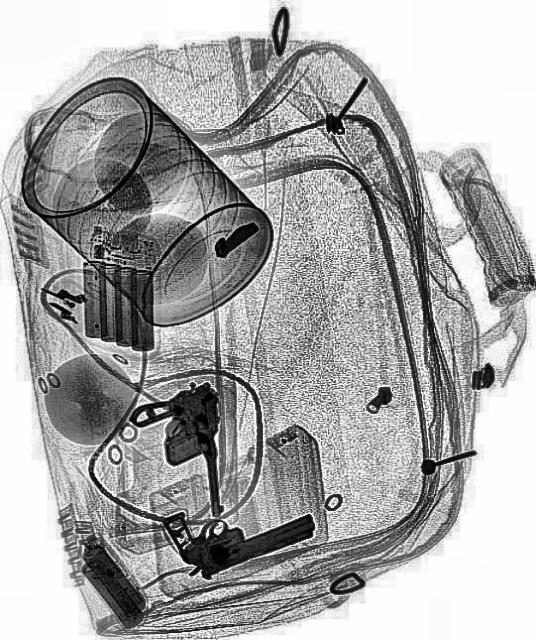Gun: (156, 458, 320, 592), (126, 373, 252, 533)
